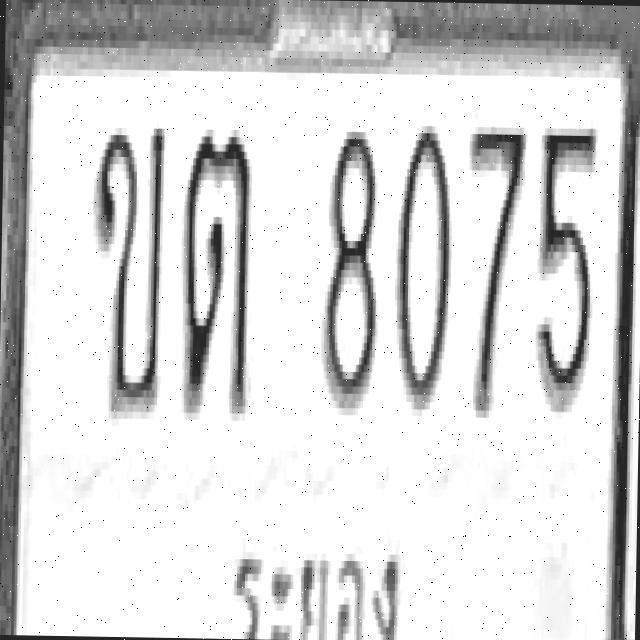0: (392, 118, 451, 410)
11KhorKhai: (90, 120, 164, 412)
30TorTao: (179, 128, 251, 413)
5: (532, 120, 596, 412)
7: (464, 123, 526, 414)
8: (320, 124, 378, 408)
Rayong: (223, 526, 415, 640)
